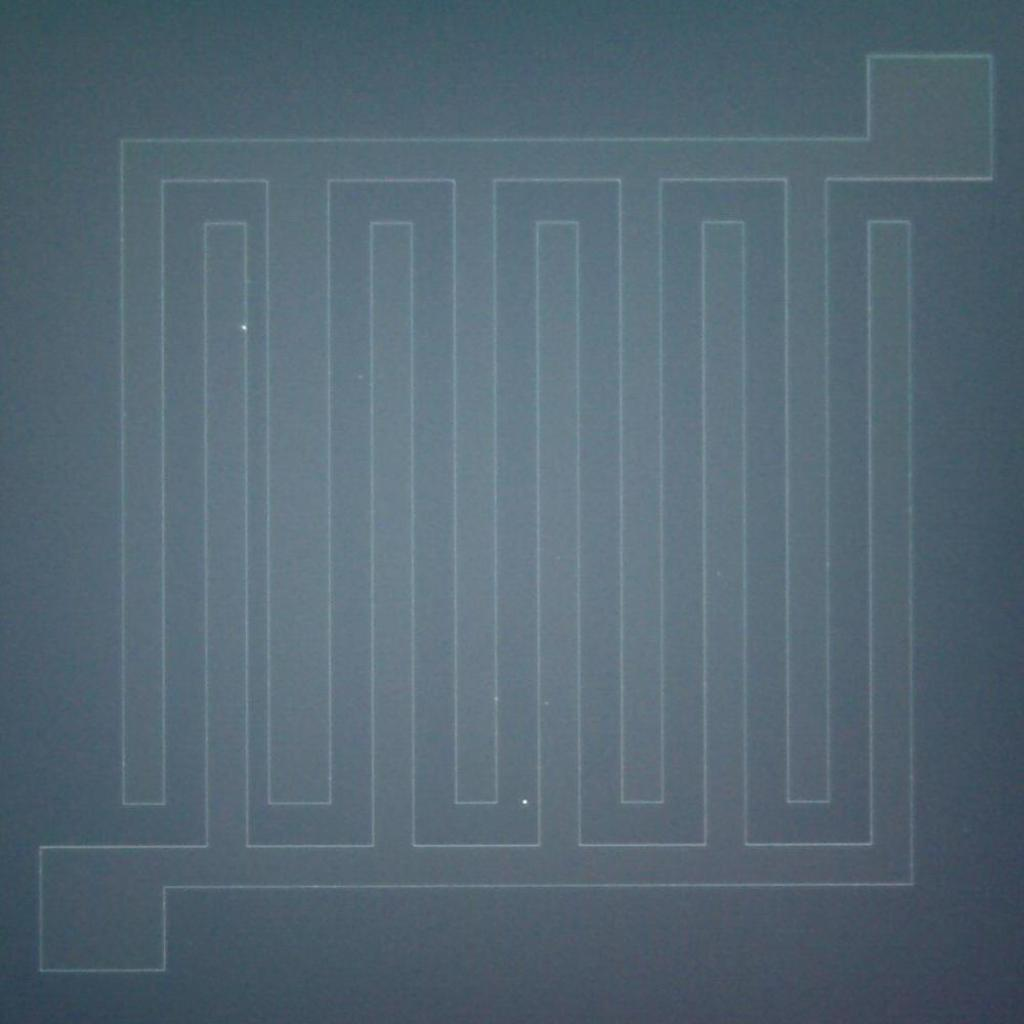dot: (506, 781, 538, 816), (229, 316, 253, 343)
fat circuit: (260, 162, 342, 814)
